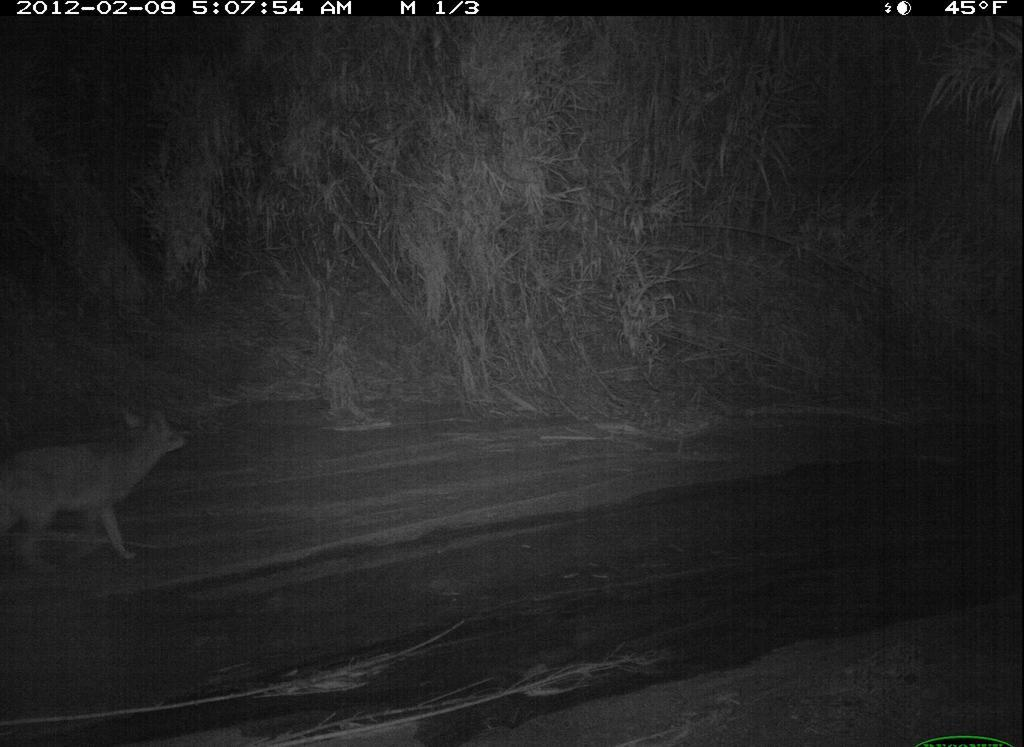coyote: (7, 411, 187, 575)
